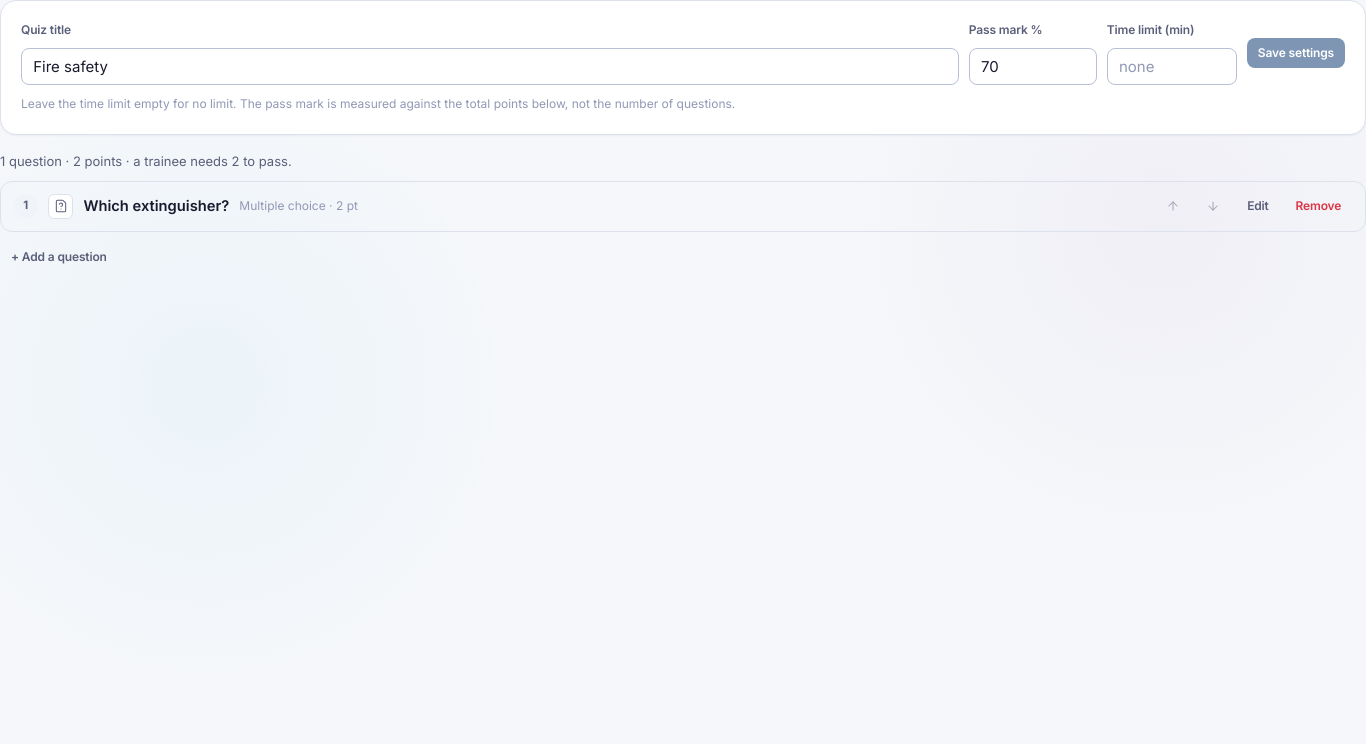
Test: editing an existing question › opens with what was stored, answer key included
What coordinates should you click on to do the following:
click the button "Edit"
I would click on:
 (1258, 206)
Its box is [1236,191,1280,221].
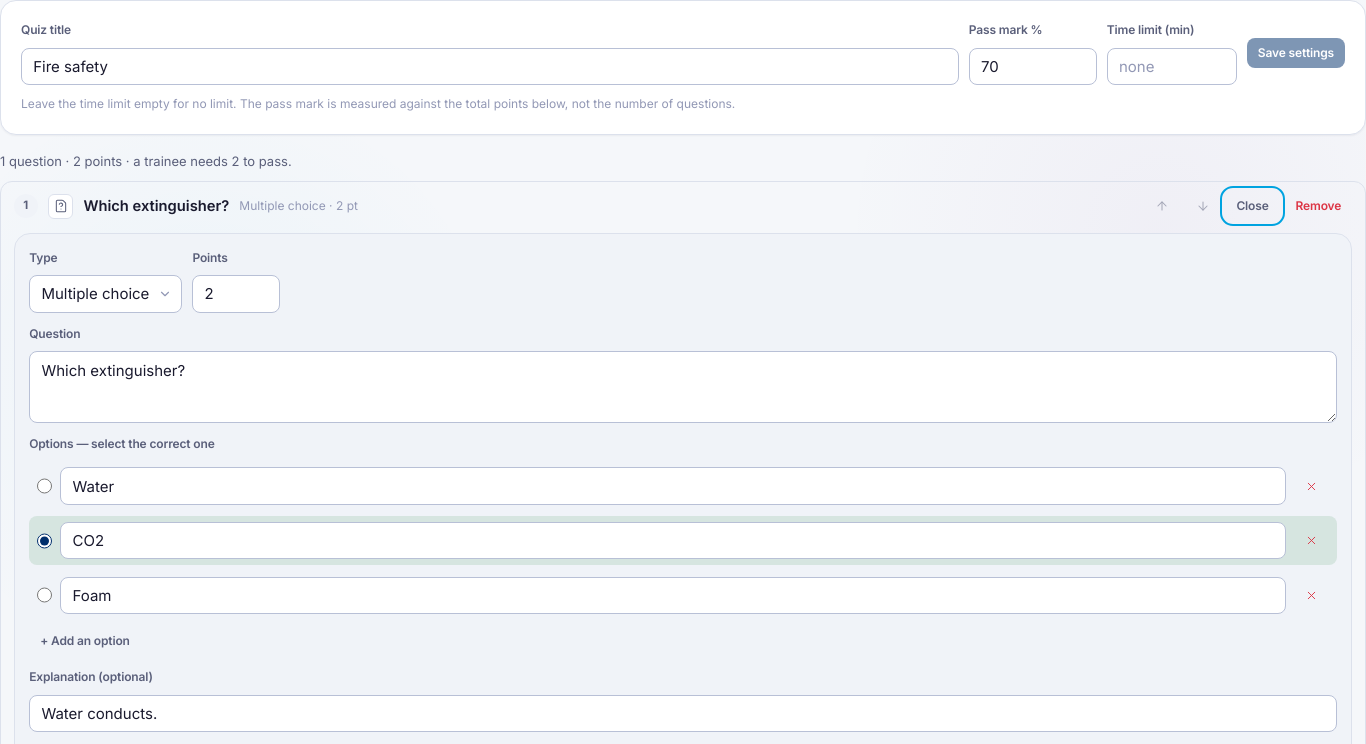
Result: the text box labelled "Question" holds "Which extinguisher?" at [29,351,1337,423]
Result: the radio button named "Option 2 is correct" is checked at [37,533,52,549]
Result: the field labelled "Points" holds "2" at [192,275,280,313]
